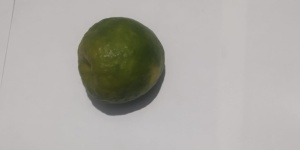BAD: (78, 14, 167, 110)
